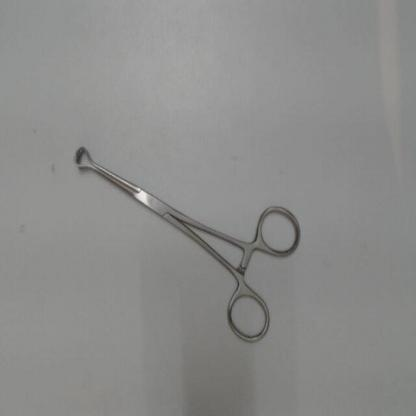Babcock Tissue Forceps: (71, 142, 304, 349)
